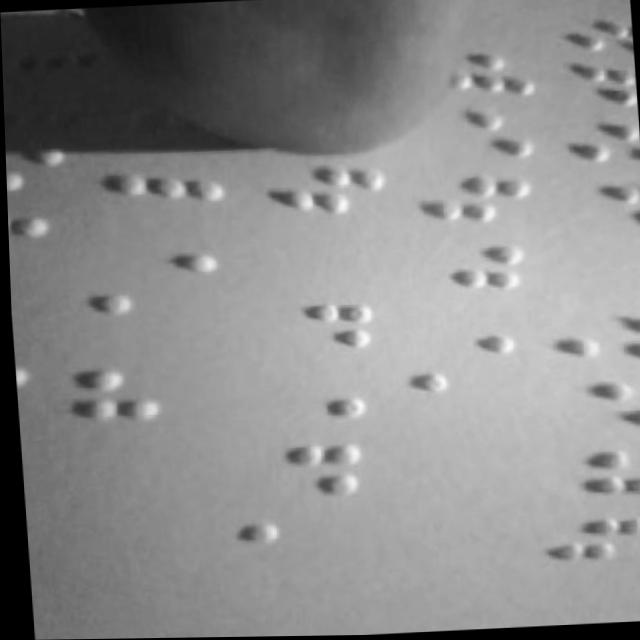braiile: (98, 119, 223, 206), (101, 205, 227, 282), (240, 432, 365, 503), (271, 154, 394, 226), (405, 164, 535, 231), (250, 288, 376, 357), (415, 97, 540, 163), (403, 233, 529, 295), (251, 361, 368, 425), (409, 296, 522, 357), (540, 438, 640, 499), (546, 303, 640, 367), (535, 508, 640, 565), (547, 377, 640, 433), (556, 128, 640, 180), (561, 178, 640, 233), (557, 59, 636, 111), (561, 14, 633, 59)
